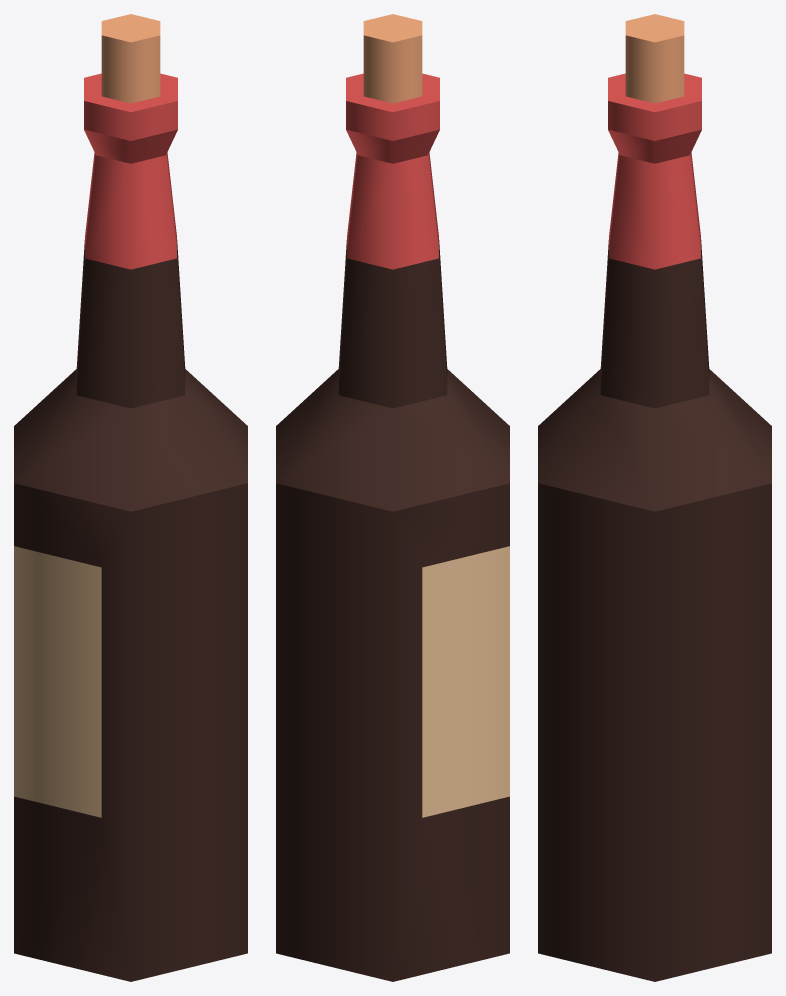
Rendered from wineRed.GLB.
3 views of the same model, side by side, from view 1: azimuth 30°, elevation 25°; view 2: azimuth 150°, elevation 25°; view 3: azimuth 270°, elevation 25° (orthographic).
Parts seen in each view (by area): view 1: wineRed; view 2: wineRed; view 3: wineRed.
Part boxes in pixels (x1,y1,x2,y2): wineRed: (14,14,247,981); wineRed: (276,14,509,981); wineRed: (538,14,771,981).
Bounding box in the file's own units: 0.1908 × 0.6989 × 0.1652.
